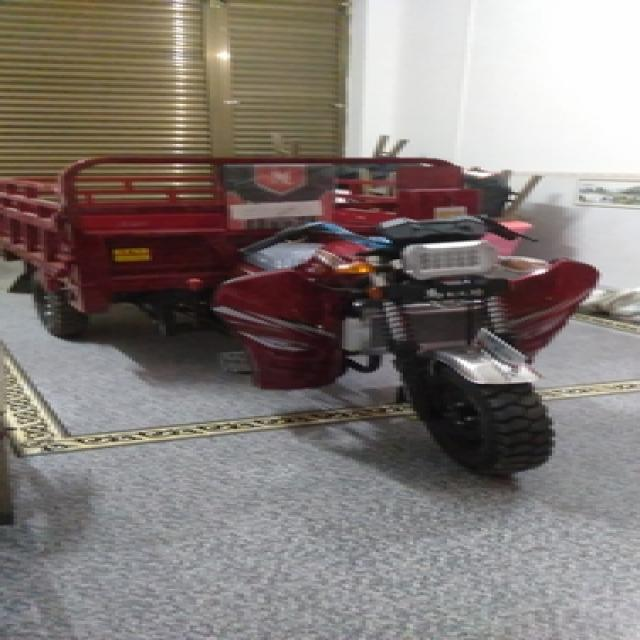tricycle: (3, 152, 596, 477)
